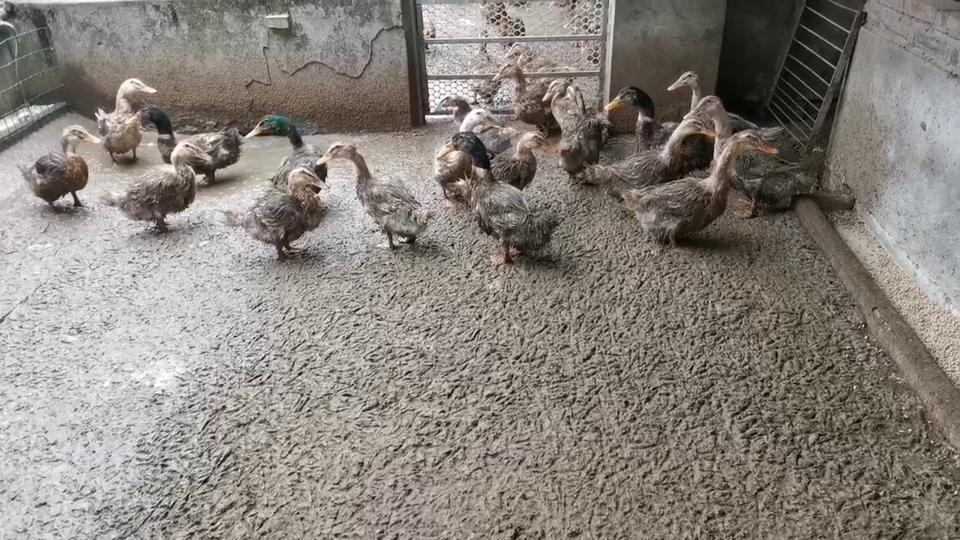duck: (695, 94, 847, 220), (637, 127, 781, 249), (439, 130, 565, 269), (320, 142, 436, 252), (238, 165, 343, 264), (118, 141, 214, 238), (130, 109, 249, 186), (613, 116, 714, 189), (17, 123, 98, 214), (248, 113, 333, 192), (550, 77, 608, 174), (96, 71, 155, 166), (439, 109, 518, 174), (602, 86, 681, 150), (497, 60, 561, 126), (493, 121, 551, 188), (467, 30, 503, 103), (664, 69, 723, 113), (535, 76, 571, 130), (419, 90, 475, 123), (508, 44, 568, 73), (568, 16, 604, 62), (490, 1, 529, 35), (424, 20, 436, 39)
